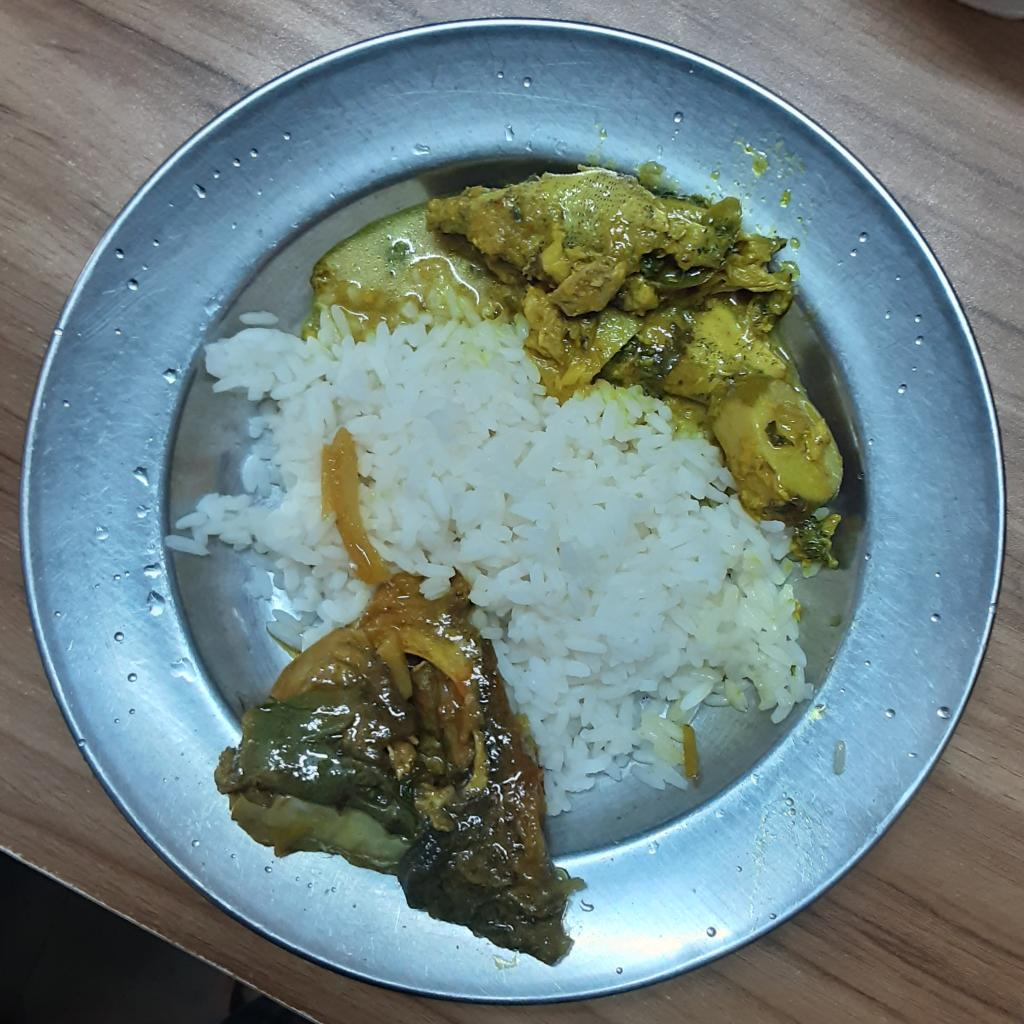dundol: (711, 377, 847, 519)
fish: (211, 430, 587, 964), (310, 163, 793, 420)
rice: (165, 258, 812, 818)
